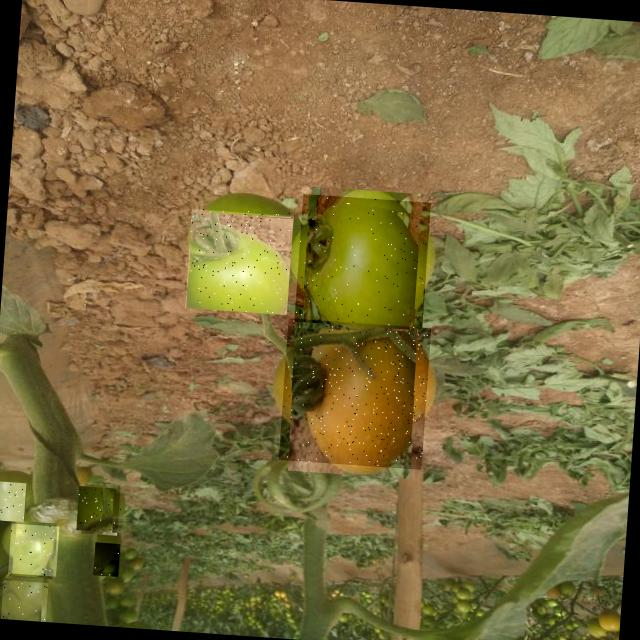Ripe Tomato: (278, 318, 431, 470)
Unripe Tomato: (294, 194, 431, 330), (184, 205, 294, 314), (8, 523, 59, 576), (76, 485, 124, 532), (0, 580, 48, 622), (0, 480, 26, 522), (94, 542, 124, 577)
